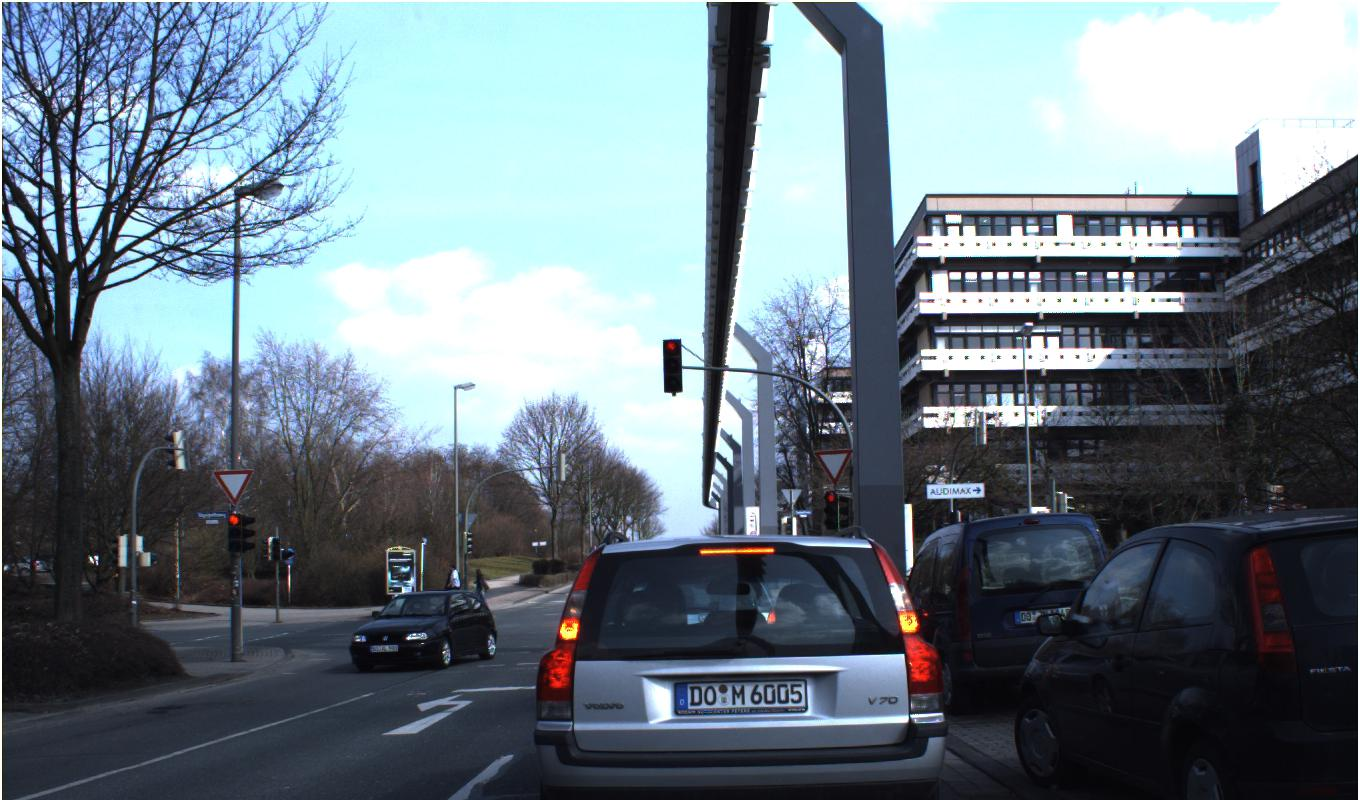sign: (212, 468, 254, 507), (812, 448, 853, 486)
